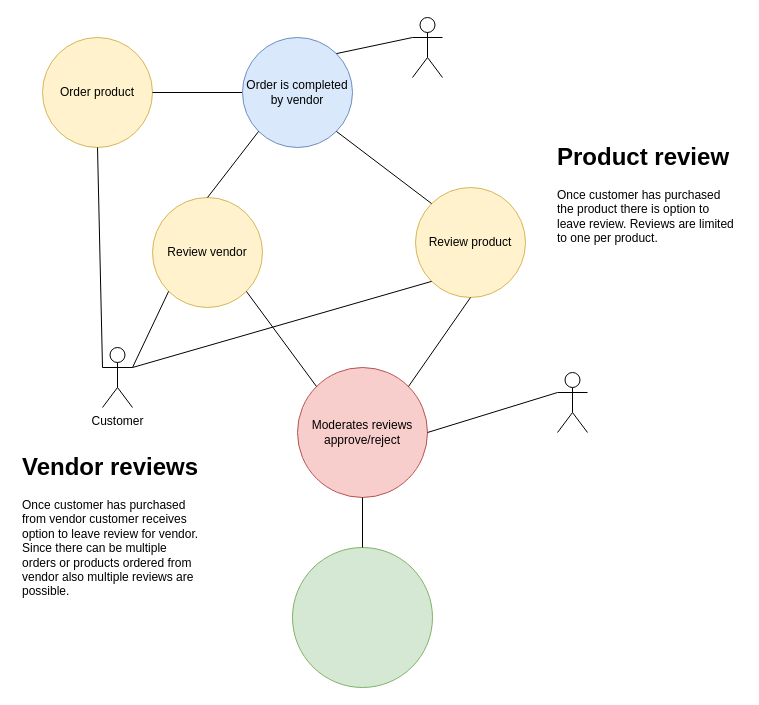
Image size: 759x705. Some labels were removed from this diagram. Here are the shapes that lost their labels. From the top down, the centre of each, then its label:
the point at 427,47: Vendor
the point at 572,402: Marketplace staff
the point at 362,617: Review is now visible in store front or rejected.
